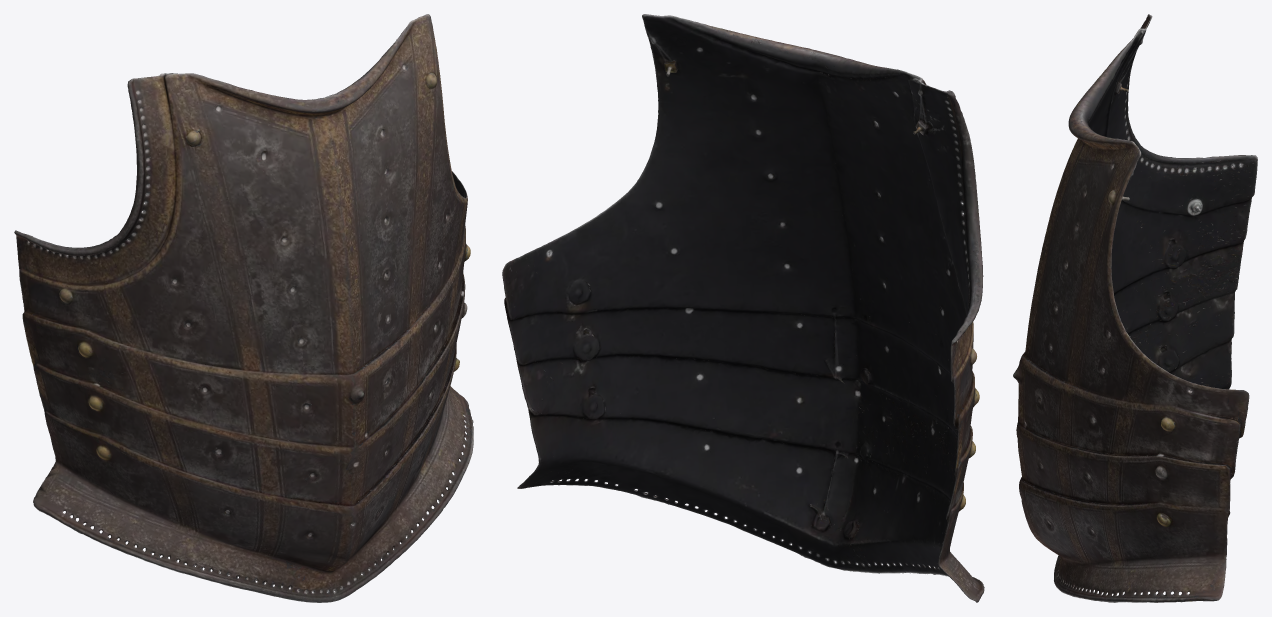
The model's file is hussar-breastplate.glb.
The picture shows the model from 3 angles, left to right: view 1: azimuth 30°, elevation 25°; view 2: azimuth 150°, elevation 25°; view 3: azimuth 270°, elevation 25°; orthographic projection. The views are drawn at different scales.
Parts seen in each view (by area): view 1: Object_2; view 2: Object_2; view 3: Object_2.
Part boxes in pixels (x1,y1,x2,y2): Object_2: (14, 14, 473, 602); Object_2: (502, 14, 984, 602); Object_2: (1013, 14, 1257, 602).
Bounding box in the file's own units: 0.3777 × 0.4374 × 0.1953.
1 material, 1 textured.
